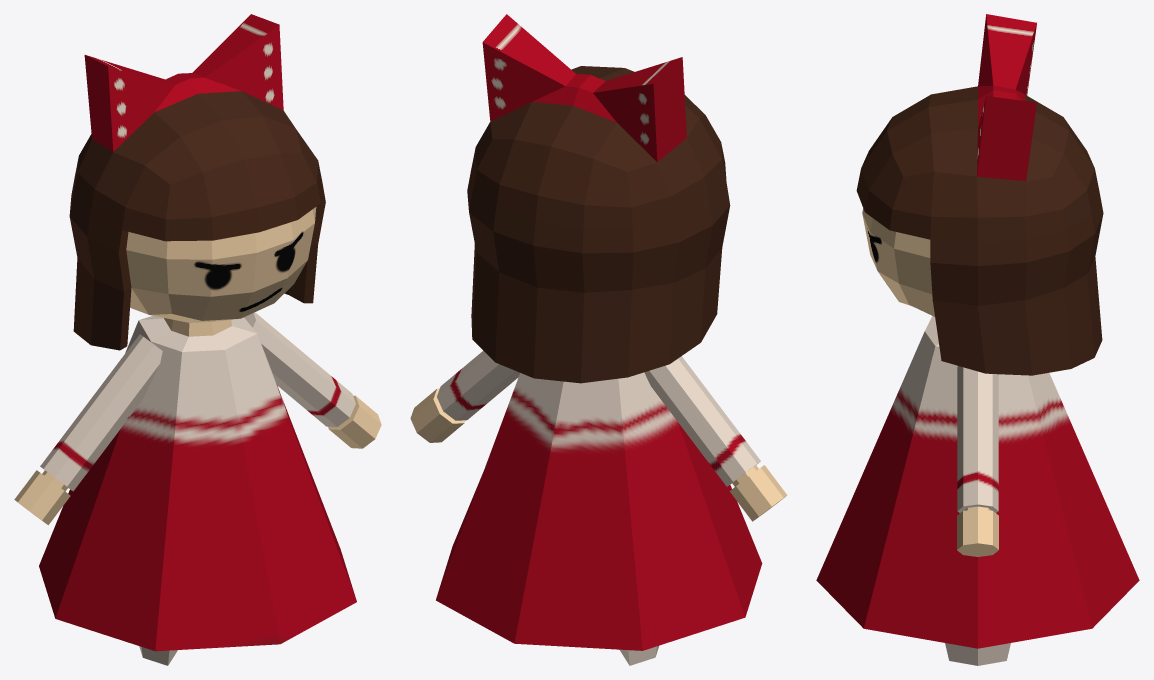
File: stella.glb
3 renders of one model, left to right at view 1: azimuth 30°, elevation 25°; view 2: azimuth 150°, elevation 25°; view 3: azimuth 270°, elevation 25°, orthographic. The views are drawn at different scales.
Parts seen in each view (by area): view 1: Stella; view 2: Stella; view 3: Stella.
Boxes of the visible parts, x1,y1,x2,y2 form: Stella: (14, 14, 381, 665); Stella: (410, 14, 787, 665); Stella: (816, 14, 1139, 665).
Bounding box in the file's own units: 0.6902 × 1.09 × 0.5469.
Materials: 1 (1 with a texture image).
